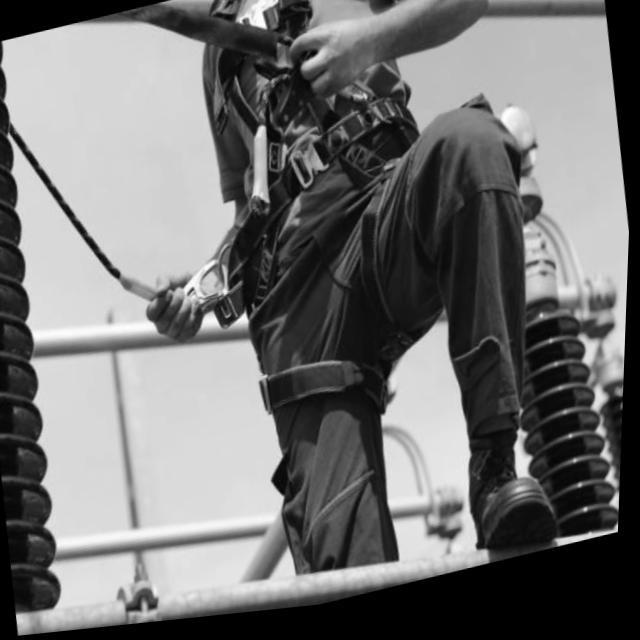belt: (192, 0, 466, 454)
